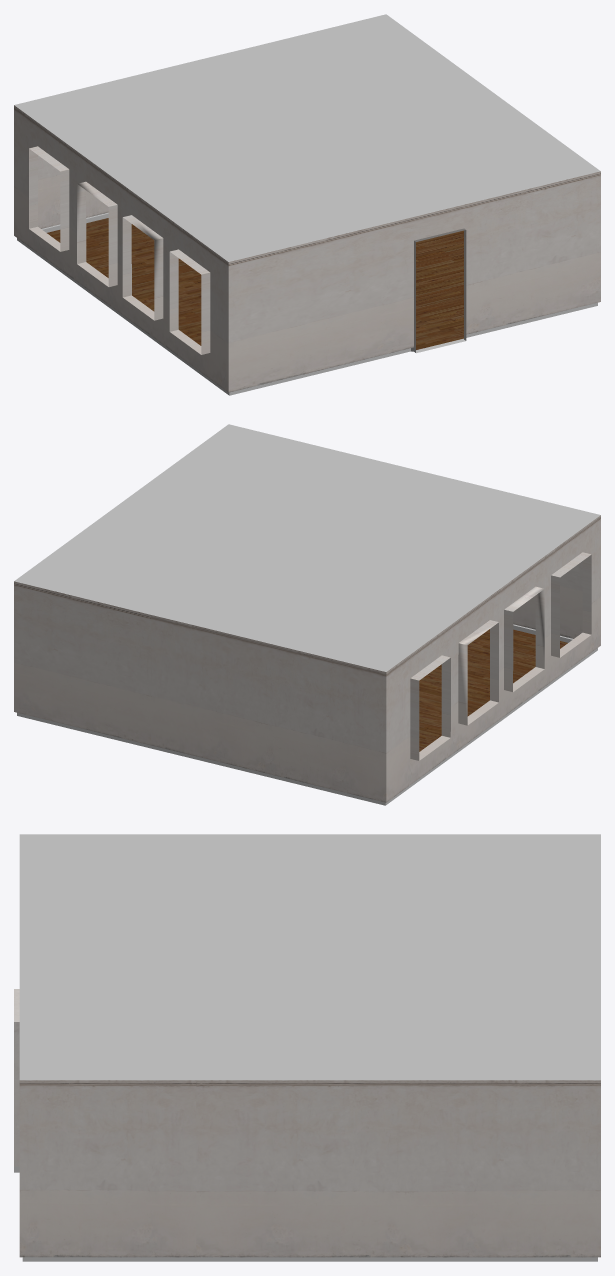
The model's file is room_01.fbx.
The picture shows the model from 3 angles, top to bottom: view 1: azimuth 30°, elevation 25°; view 2: azimuth 150°, elevation 25°; view 3: azimuth 270°, elevation 25°; orthographic projection. The views are drawn at different scales.
Parts seen in each view (by area): view 1: room_01; view 2: room_01; view 3: room_01.
Part boxes in pixels (x1,y1,x2,y2): room_01: (14, 14, 600, 395); room_01: (14, 424, 600, 805); room_01: (14, 834, 600, 1261).
Bounding box in the file's own units: 844 × 285 × 831.
